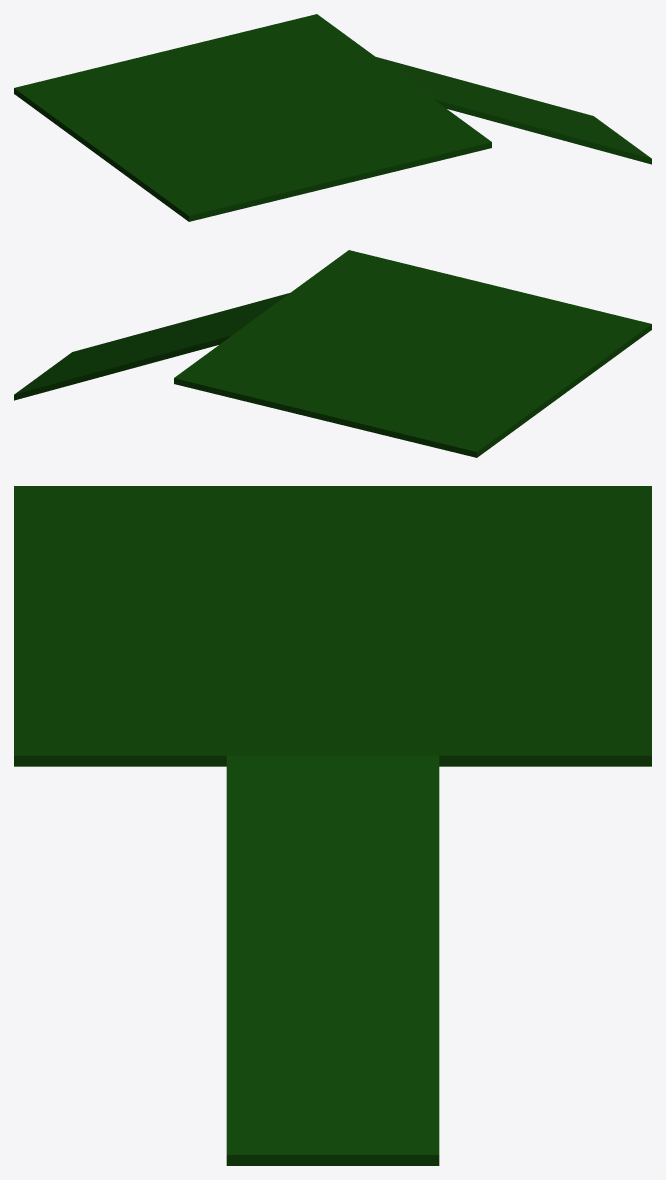
Rendered from RampPlatform.glb.
3 views of the same model, one above another, from view 1: azimuth 30°, elevation 25°; view 2: azimuth 150°, elevation 25°; view 3: azimuth 270°, elevation 25° (orthographic). The views are drawn at different scales.
Parts seen in each view (by area): view 1: Cube; view 2: Cube; view 3: Cube.
Boxes of the visible parts, x1,y1,x2,y2 form: Cube: (14,14,651,221); Cube: (14,250,651,457); Cube: (14,486,651,1165).
Bounding box in the file's own units: 3.44 × 0.7471 × 2.
Materials: 1 (1 with a texture image).
